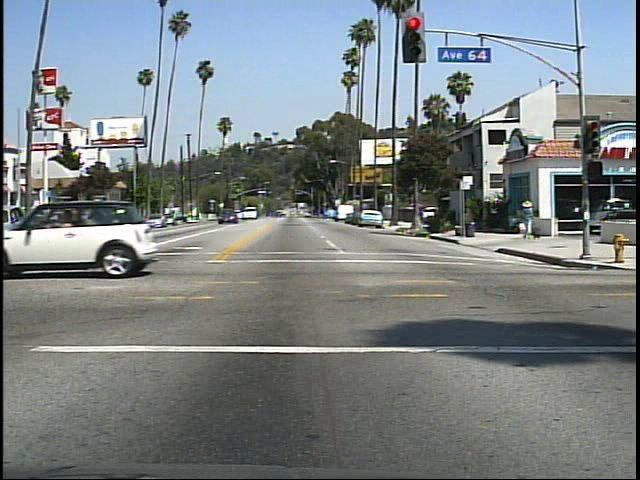person: (516, 194, 540, 243)
